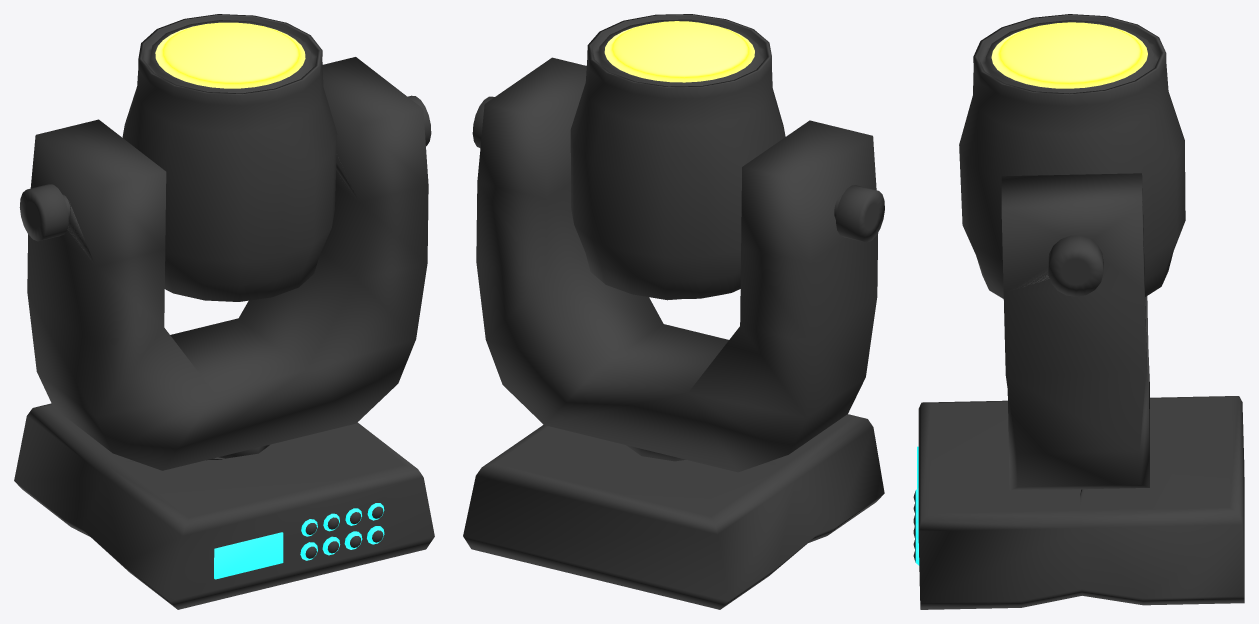
Rendered from Stage light model.glb.
3 renders of one model, left to right at view 1: azimuth 30°, elevation 25°; view 2: azimuth 150°, elevation 25°; view 3: azimuth 270°, elevation 25°, orthographic. The views are drawn at different scales.
Visible parts, largest first — view 1: Stand, Light, Base, Panel; view 2: Stand, Base, Light; view 3: Base, Stand, Light, Panel.
Part boxes in pixels (x1,y1,x2,y2): Stand: (19, 57, 431, 470); Light: (122, 14, 337, 301); Base: (14, 403, 434, 609); Panel: (214, 503, 384, 579); Stand: (472, 57, 884, 472); Base: (463, 414, 884, 609); Light: (570, 14, 785, 300); Base: (918, 396, 1244, 609); Stand: (1001, 173, 1149, 490); Light: (959, 14, 1185, 298); Panel: (913, 446, 919, 565).
Size of the model in its own units: 57.13 by 69.36 by 40.86.
